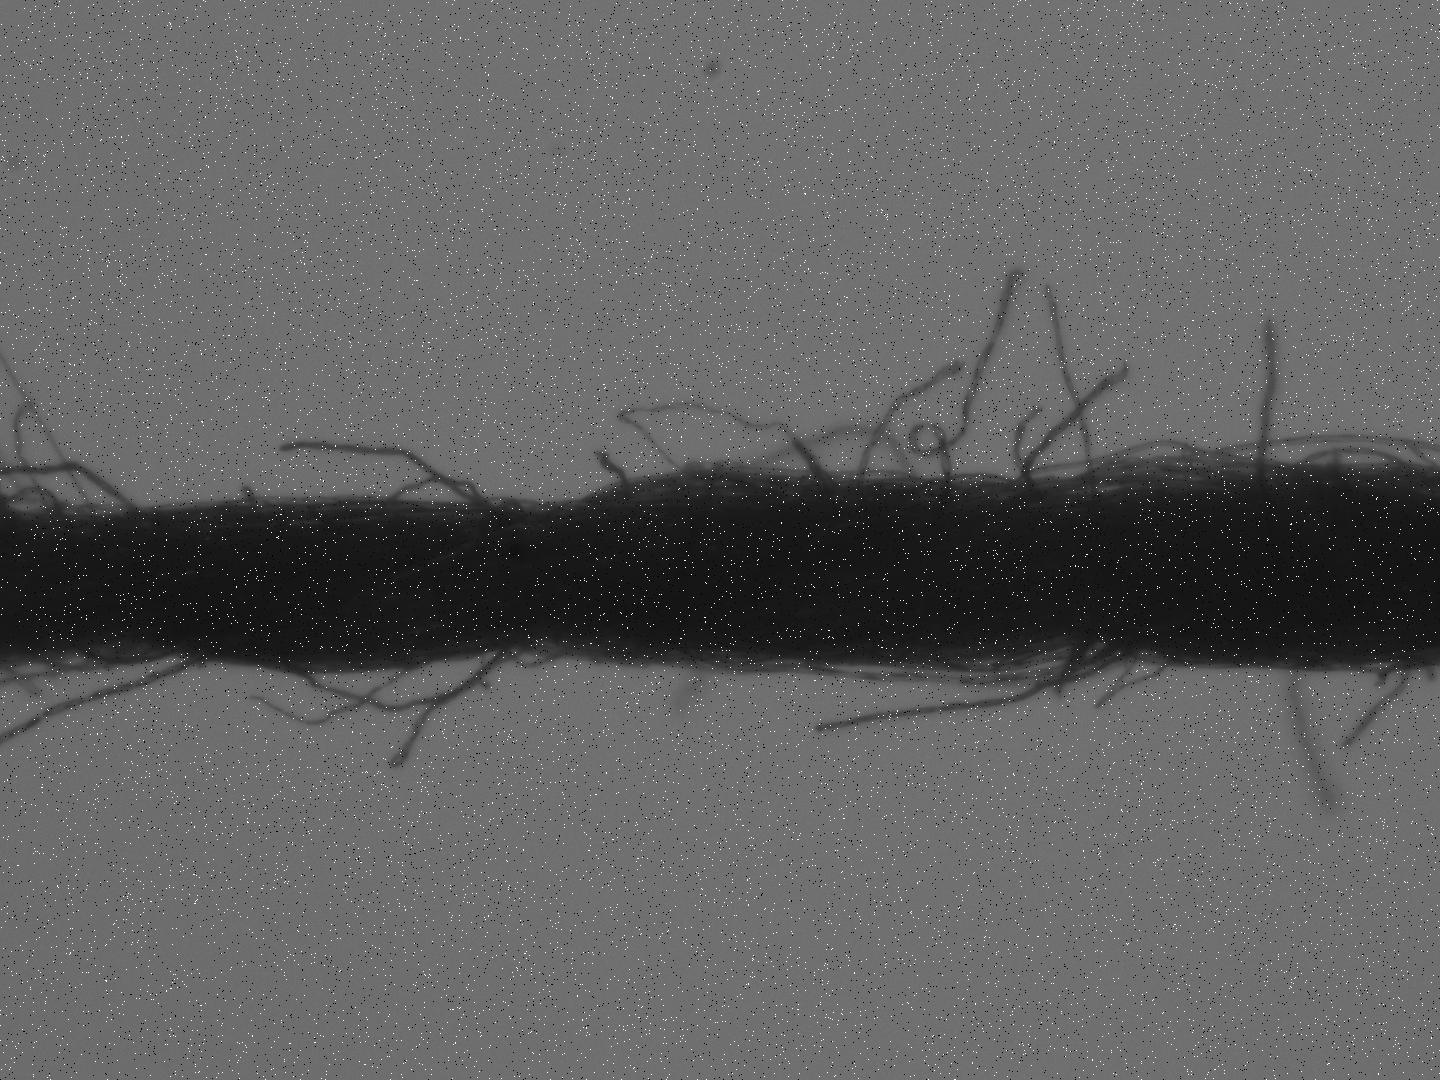loop_fiber: (663, 631, 1137, 691), (613, 396, 847, 500), (288, 634, 524, 719), (995, 439, 1284, 493), (377, 472, 516, 529), (1287, 446, 1418, 473), (80, 643, 180, 670), (11, 488, 67, 522)
protruding_fiber: (1252, 318, 1280, 480), (593, 445, 633, 491)
